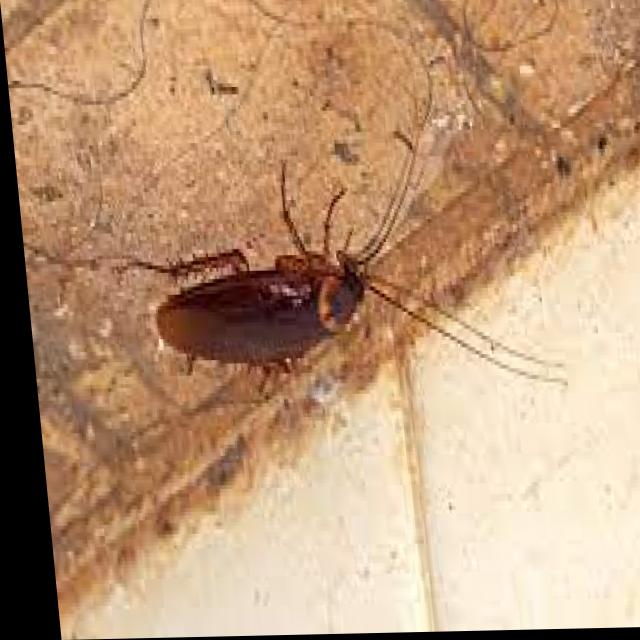Cockroach: (87, 129, 575, 470)
